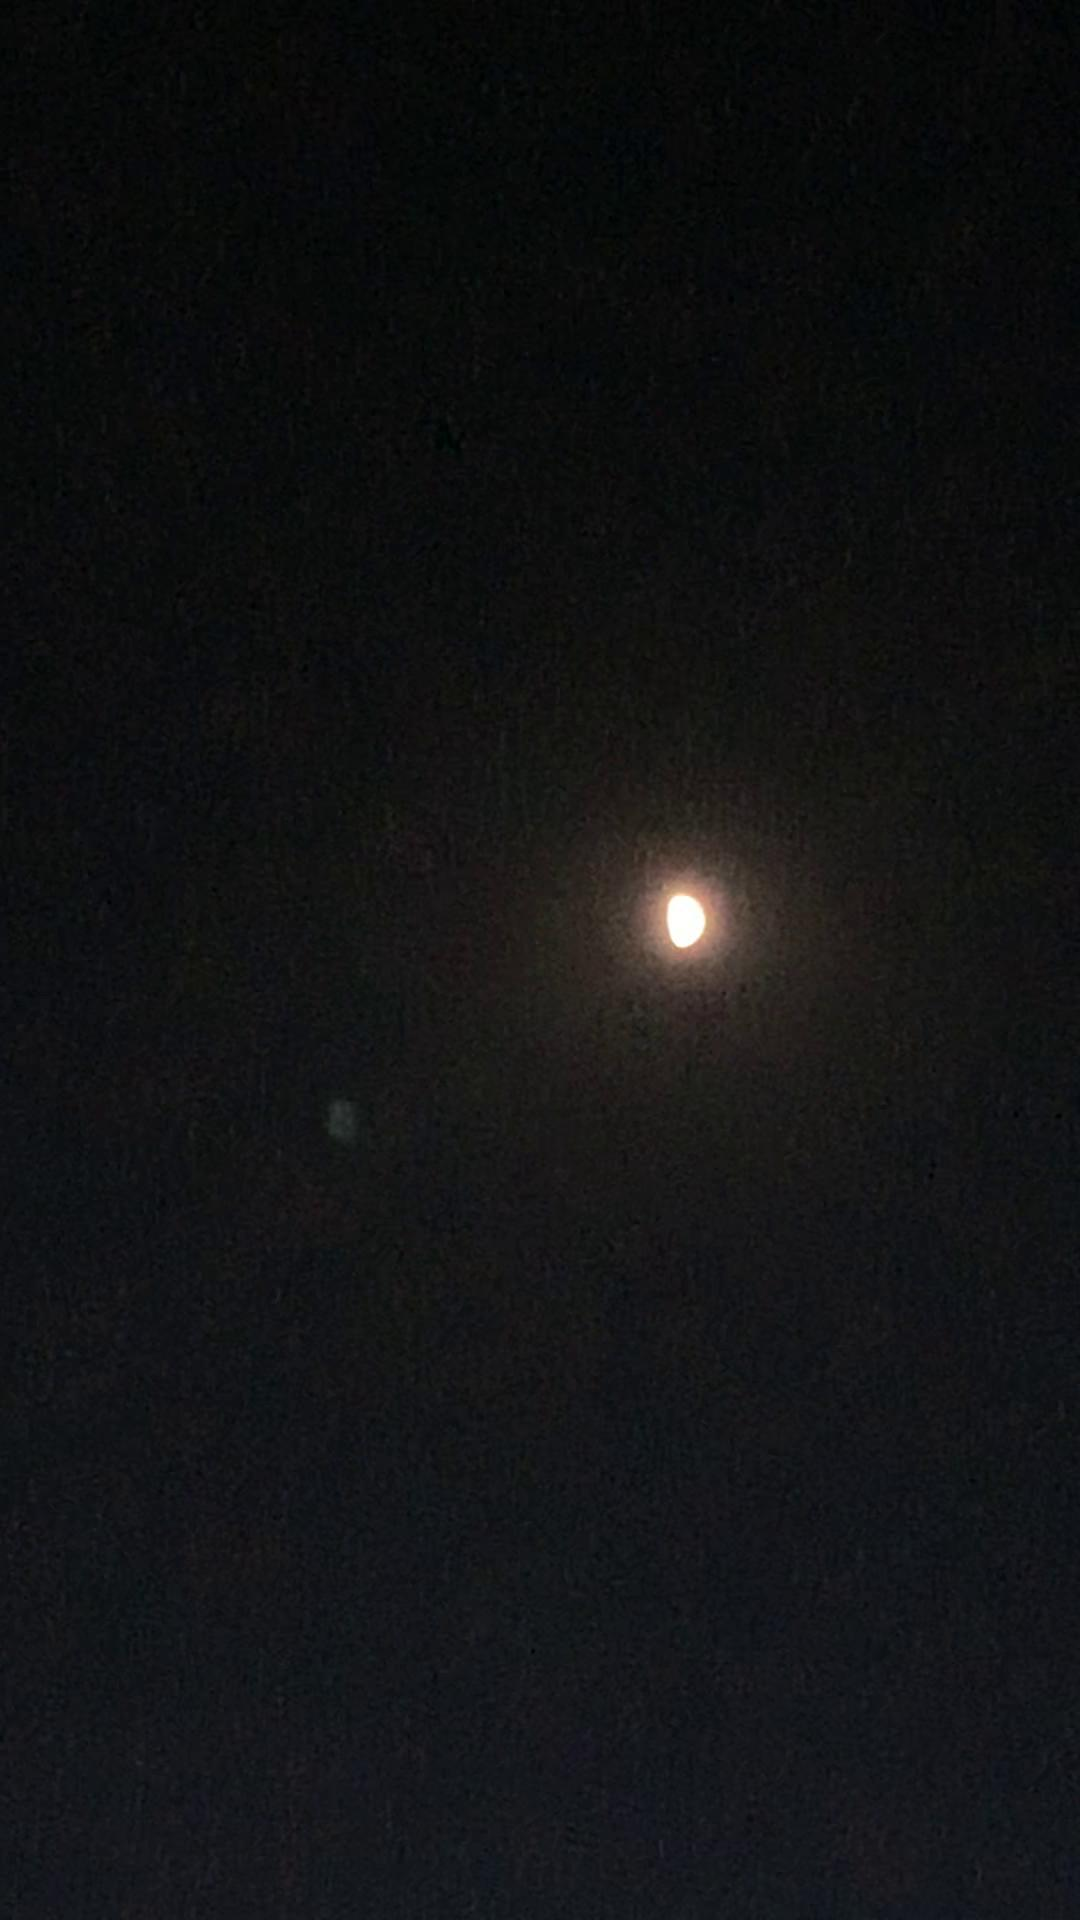moon: (638, 860, 731, 957)
